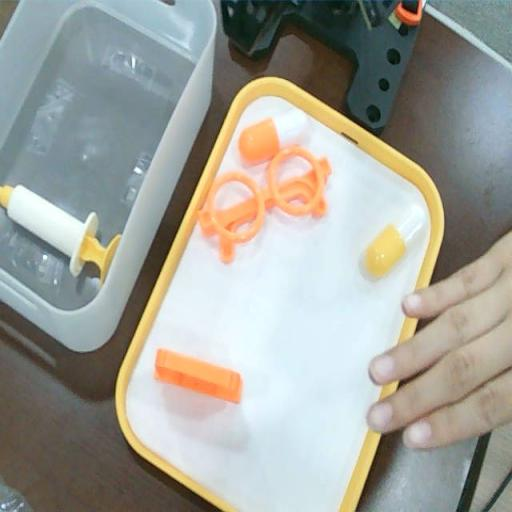hospital: (362, 209, 512, 456)
